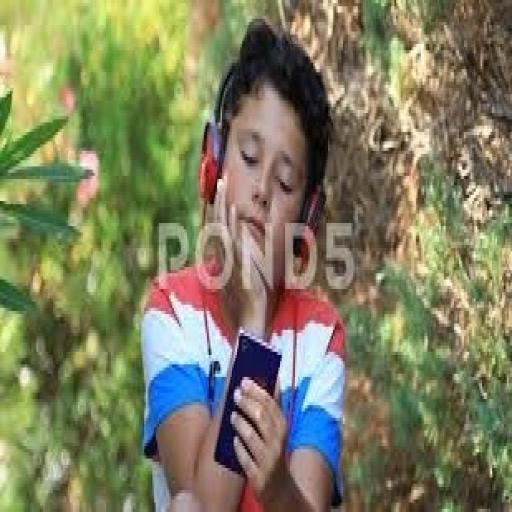texting: (137, 16, 348, 509)
